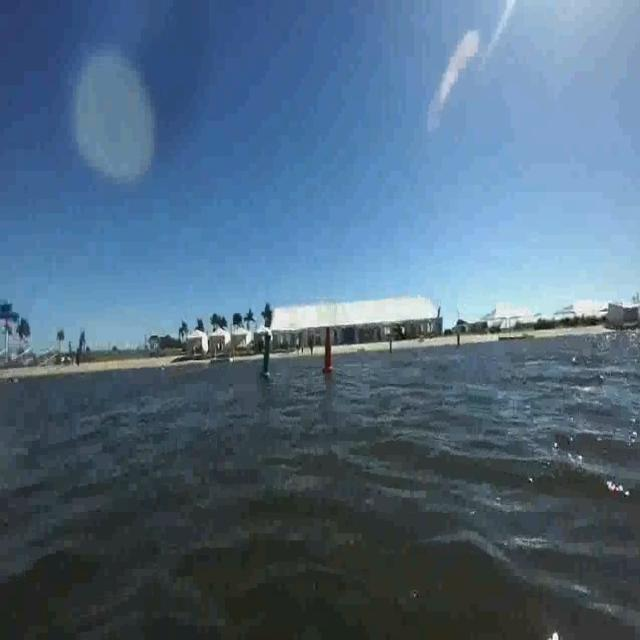green-column-buoy: (262, 332, 274, 380)
red-column-buoy: (322, 328, 335, 374)
